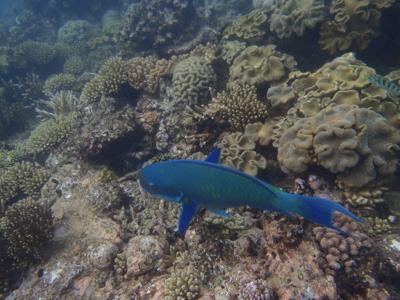Scaridae -Parrotfishes-: (132, 148, 364, 239)
